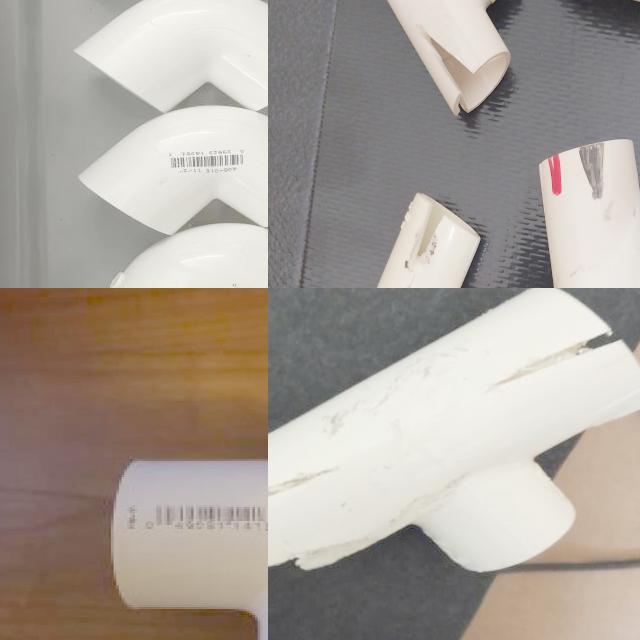Defective: (520, 317, 622, 383), (268, 463, 343, 500), (521, 186, 567, 240), (612, 99, 640, 153), (617, 207, 640, 272), (268, 492, 301, 520), (490, 339, 510, 350)
L Joint: (109, 460, 268, 640), (284, 106, 442, 274), (77, 106, 268, 236), (73, 0, 268, 114), (108, 225, 268, 288)
T Joint: (268, 288, 640, 574), (499, 83, 640, 288)
